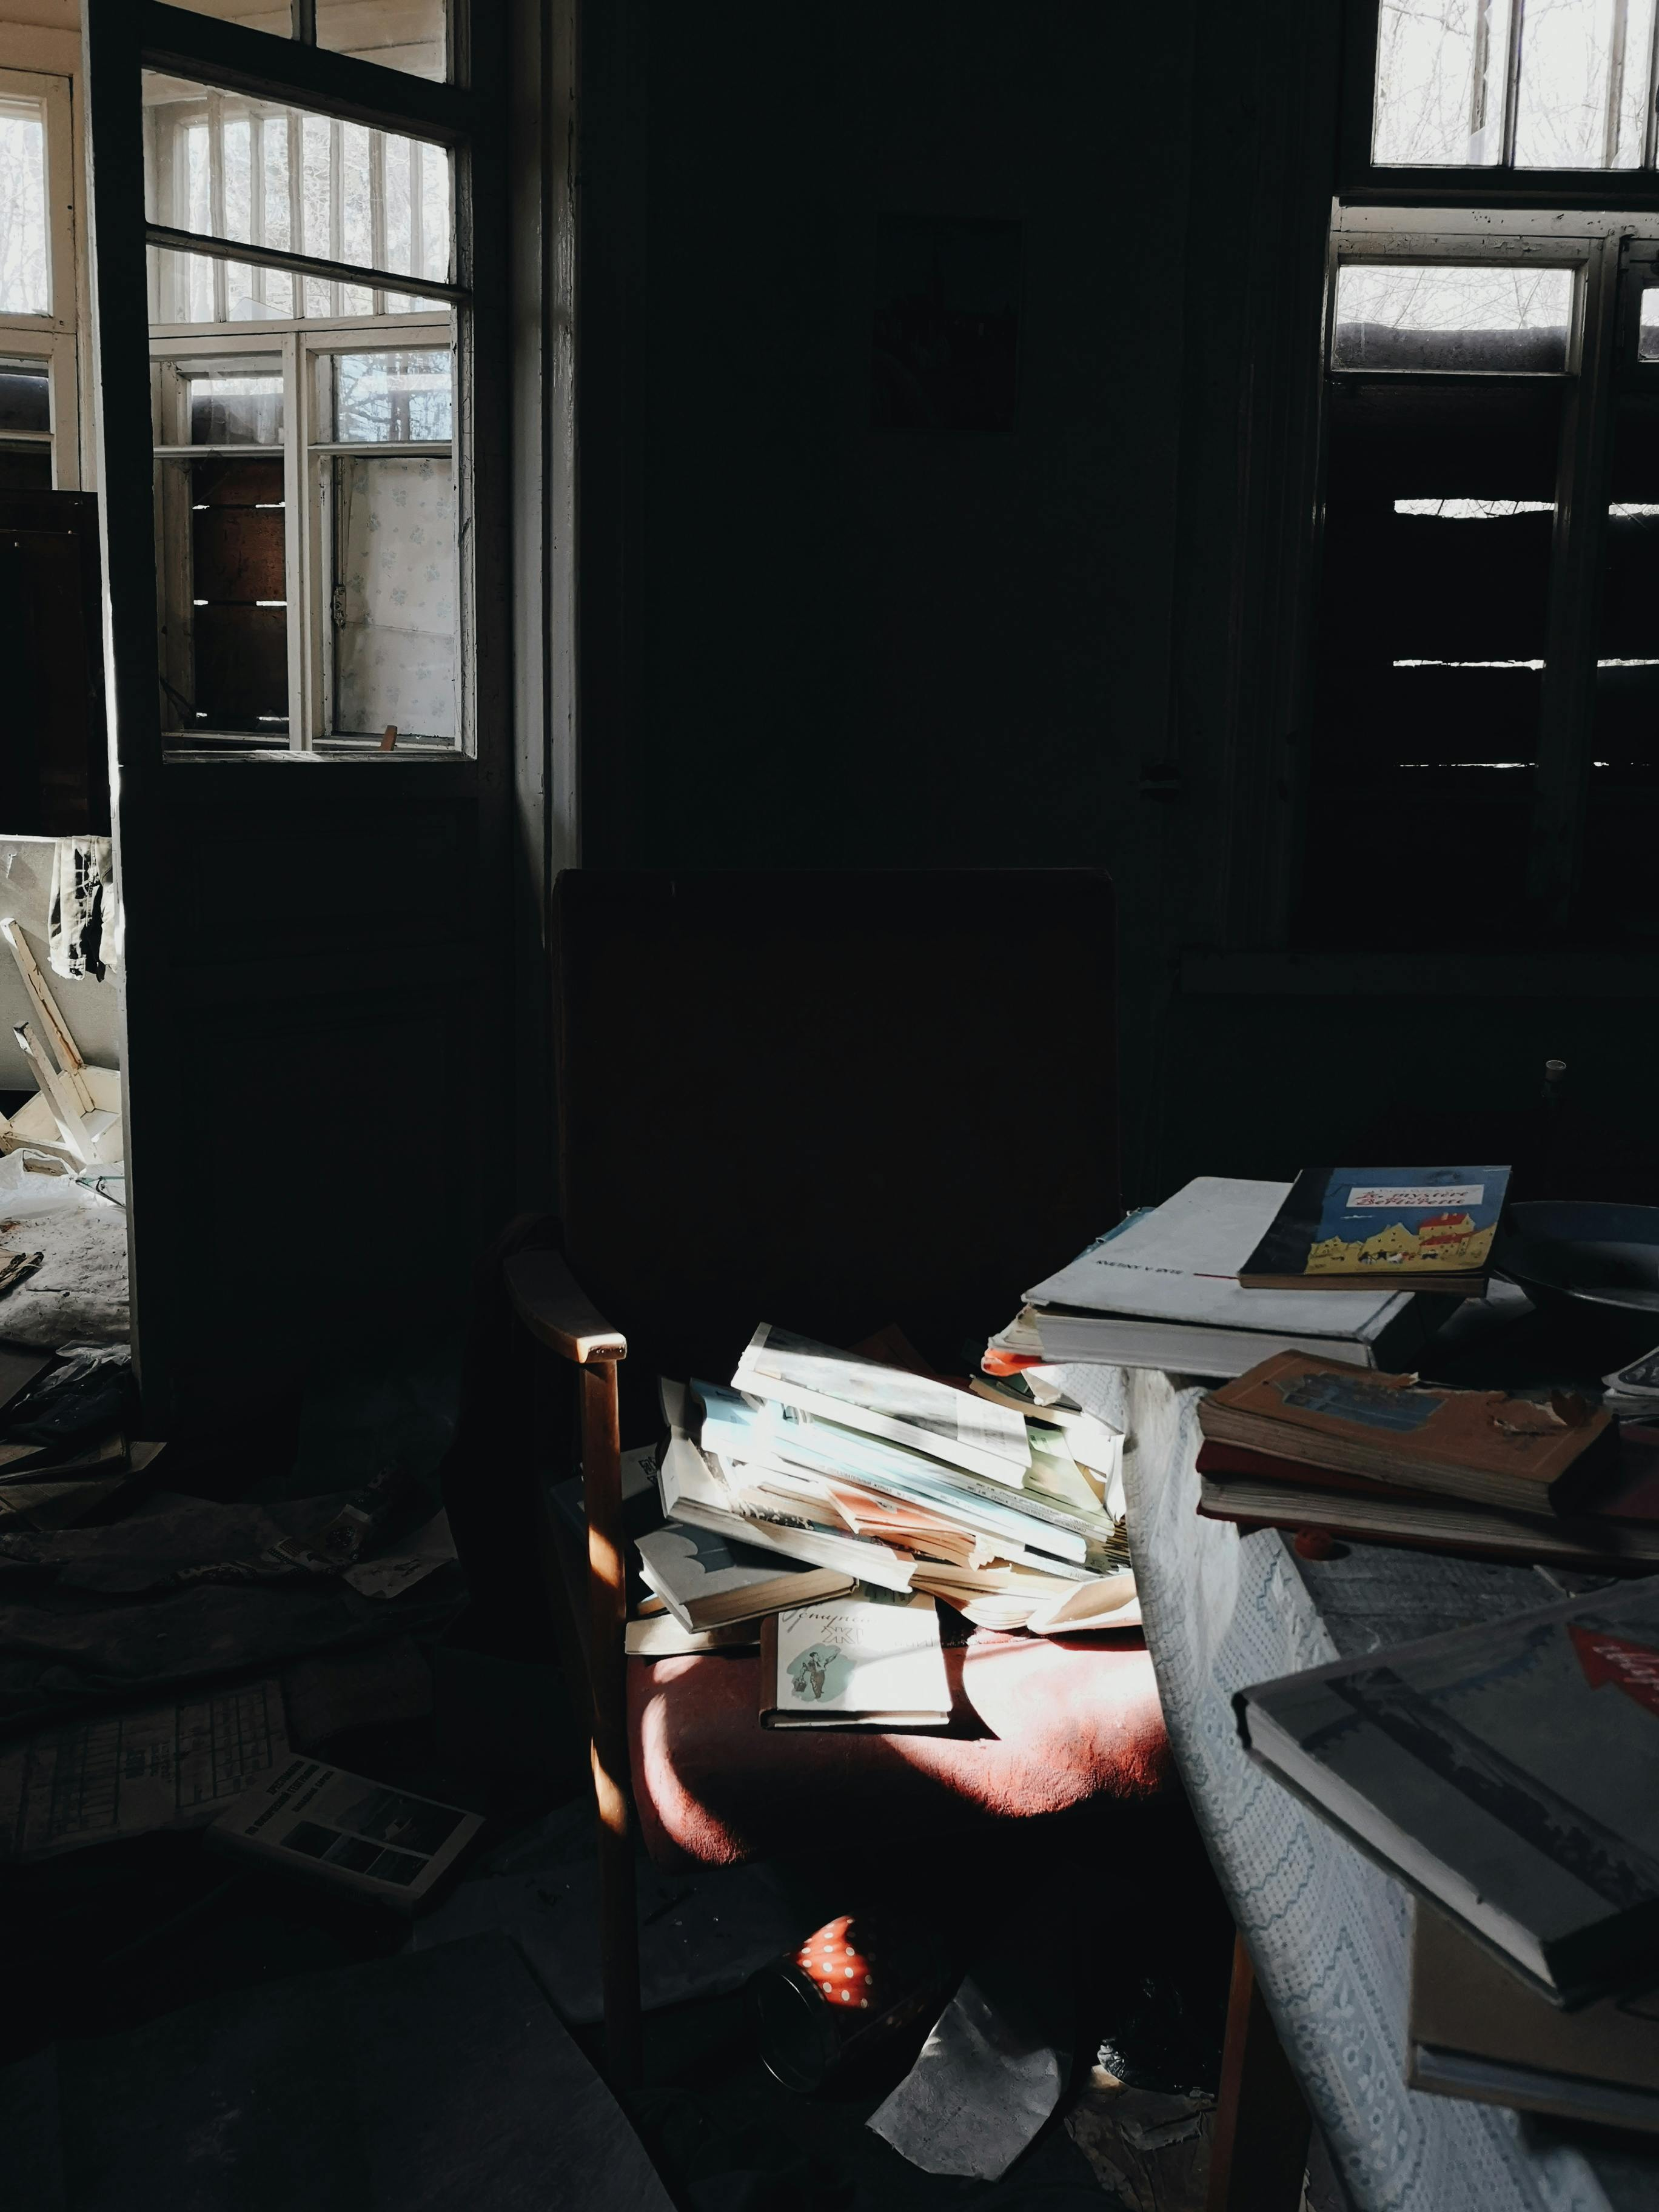book: (1117, 1076, 1640, 1916)
